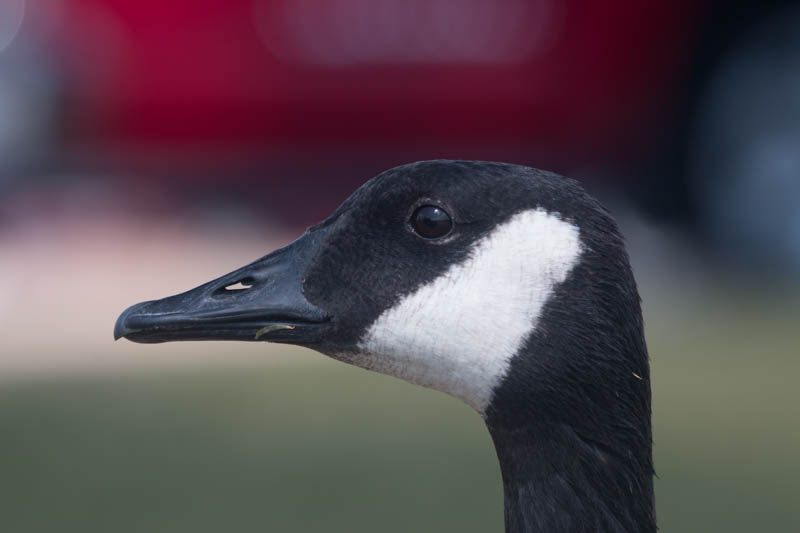goose-head: (112, 158, 651, 416)
